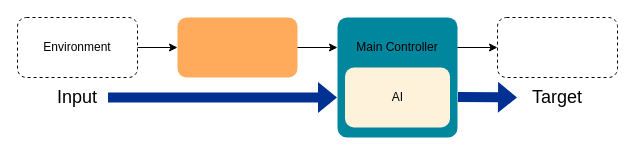
The diagram is 635 pixels wide and 155 high, and some of its shapes have lost their labels. Each missing label, with the box of its shape:
Classification/ Prediction: (496, 16, 618, 78)
Sensor: (177, 17, 297, 77)
